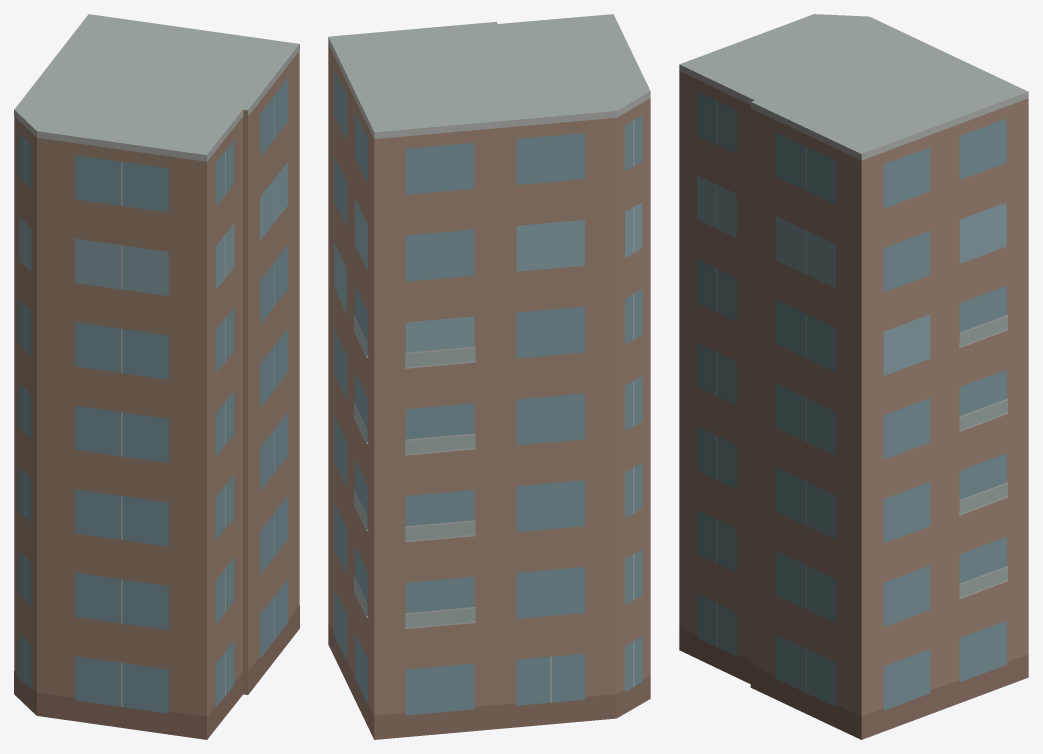
Rendered from survey-upis-32967253.glb.
3 renders of one model, left to right at view 1: azimuth 30°, elevation 25°; view 2: azimuth 150°, elevation 25°; view 3: azimuth 270°, elevation 25°, orthographic. The views are drawn at different scales.
Visible parts, largest first — view 1: survey-upis-32967253.tmp; view 2: survey-upis-32967253.tmp; view 3: survey-upis-32967253.tmp.
Part boxes in pixels (x1,y1,x2,y2): survey-upis-32967253.tmp: [14, 14, 299, 739]; survey-upis-32967253.tmp: [328, 14, 650, 739]; survey-upis-32967253.tmp: [679, 14, 1028, 739].
Bounding box in the file's own units: 11.24 × 21.9 × 11.84.
